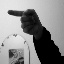g: (5, 7, 42, 38)
